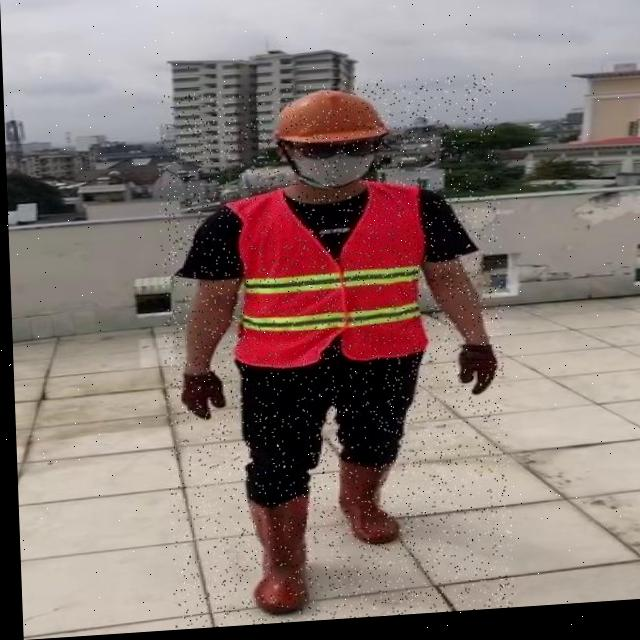Gloves: (177, 370, 222, 423), (454, 348, 495, 402)
Helmet: (271, 90, 388, 151)
Safety-Boot: (242, 491, 309, 618), (332, 456, 395, 551)
Safety-Vest: (218, 181, 427, 376)
